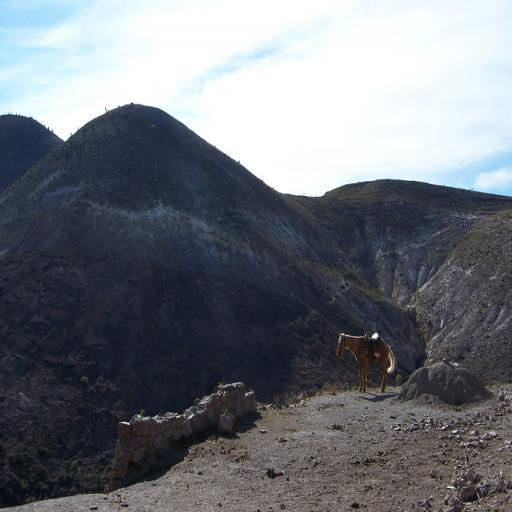horse: (338, 334, 396, 394)
